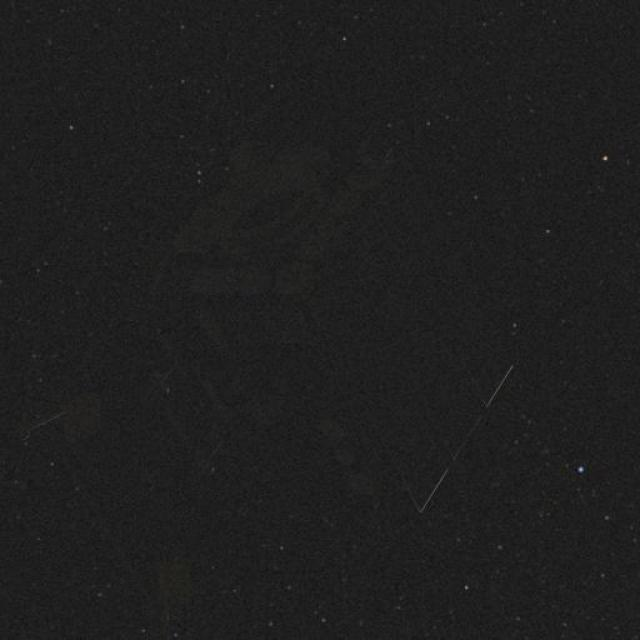proba_2: (44, 322, 531, 492)
